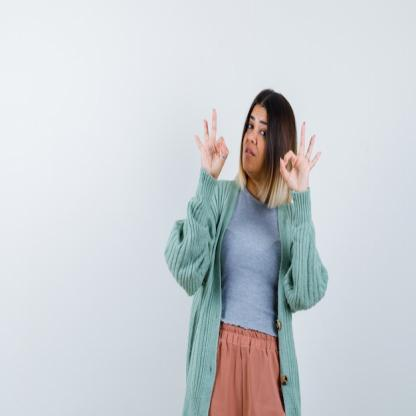ok: (276, 116, 324, 196), (194, 106, 230, 180)
